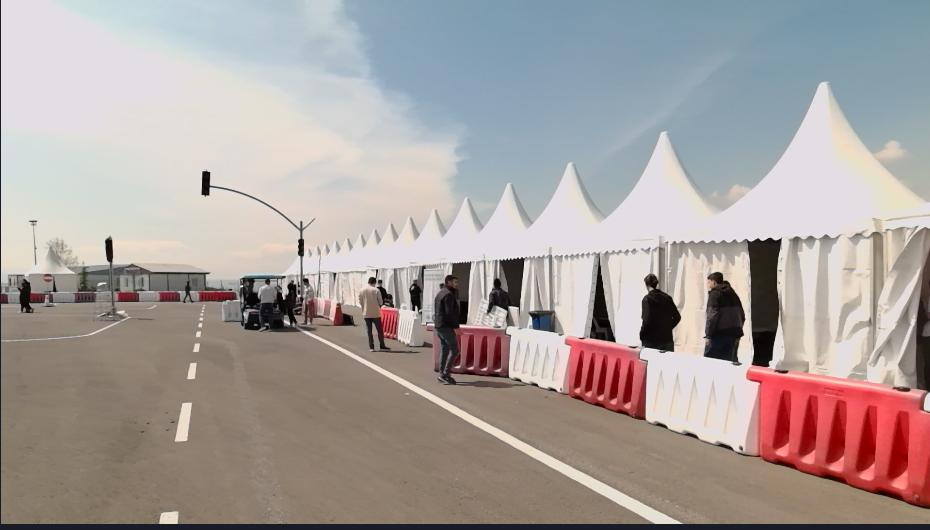nesne: (0, 296, 679, 522), (156, 299, 679, 527), (451, 325, 928, 504), (297, 327, 676, 526), (0, 297, 208, 523), (758, 373, 928, 507), (641, 351, 761, 454), (565, 335, 648, 418), (506, 327, 568, 391), (704, 269, 746, 362), (637, 272, 685, 350), (0, 315, 130, 341), (433, 273, 461, 385), (450, 325, 508, 375), (354, 273, 390, 351), (237, 274, 283, 330), (256, 277, 277, 330), (396, 308, 424, 345), (485, 273, 508, 314), (281, 280, 298, 327), (115, 291, 179, 302), (175, 400, 192, 441), (49, 291, 110, 302), (15, 277, 33, 313), (302, 273, 314, 322), (528, 308, 553, 330), (381, 308, 398, 338), (377, 277, 394, 306), (407, 277, 421, 310), (326, 301, 345, 324), (221, 299, 237, 321), (157, 511, 180, 526), (198, 292, 235, 301), (182, 280, 195, 303), (50, 291, 77, 302), (138, 291, 160, 301), (117, 293, 138, 302), (161, 292, 179, 302), (76, 292, 95, 301), (187, 362, 197, 379), (94, 293, 110, 302), (316, 297, 324, 315), (32, 292, 44, 303), (40, 273, 54, 282), (323, 299, 329, 319), (7, 294, 18, 304), (189, 292, 199, 302), (0, 293, 8, 305), (192, 343, 200, 354)
